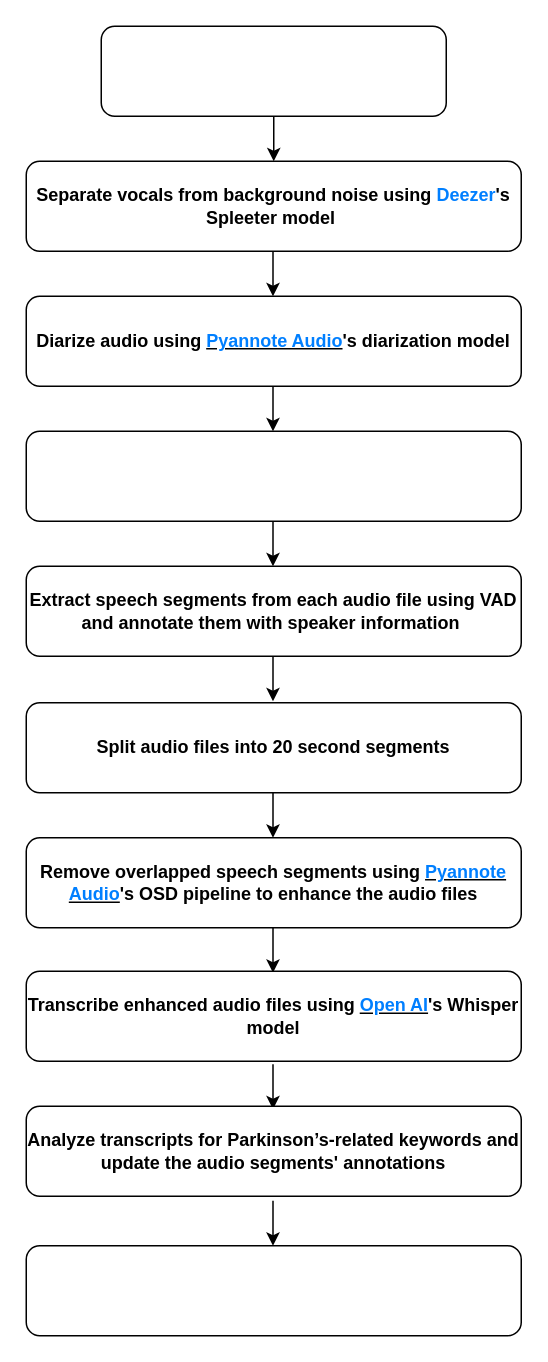
This 548x1362 diagram has some shape labels left out. The centre of each missing label's shape, as x and y in pixels:
"Download Video / Upload Audio" belongs at pixel 273 70.
"Generate an Individual audio file for each speaker in the audio file" belongs at pixel 273 475.
"Save to Google Drive" belongs at pixel 273 1290.
